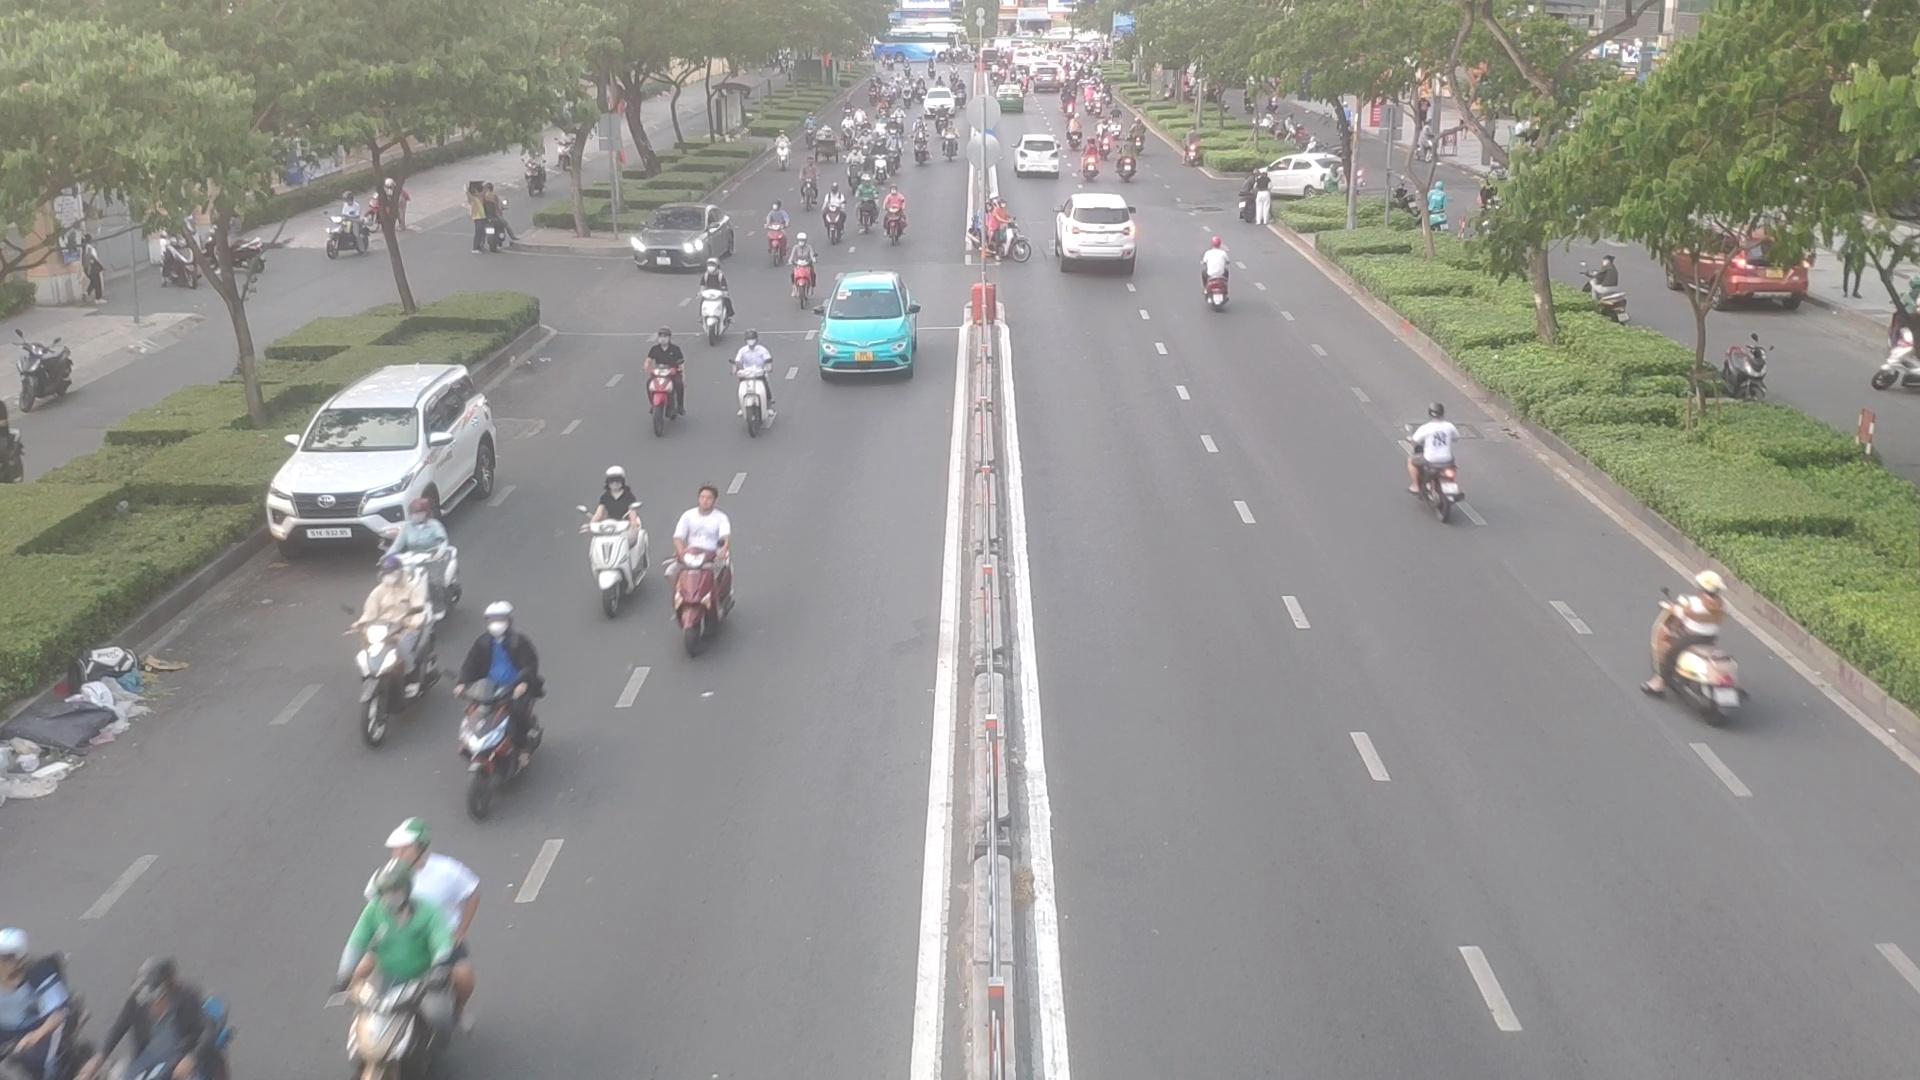car: (262, 363, 500, 554), (814, 276, 919, 380), (626, 204, 738, 272), (1054, 190, 1141, 274), (1014, 132, 1065, 174)
motorbike: (328, 858, 481, 1062), (454, 603, 541, 804), (1652, 566, 1742, 733), (675, 483, 741, 659), (361, 566, 425, 741), (1400, 394, 1476, 510), (382, 496, 462, 603), (588, 431, 637, 597), (731, 328, 781, 436), (641, 331, 687, 422), (978, 198, 1029, 272), (695, 253, 738, 336), (1199, 236, 1232, 305), (793, 229, 819, 303), (761, 193, 789, 261), (884, 182, 907, 243), (825, 179, 845, 243), (858, 174, 880, 229), (773, 115, 790, 179), (1116, 135, 1137, 181), (884, 131, 905, 173), (1083, 137, 1100, 183), (806, 156, 820, 208), (873, 142, 890, 181), (913, 127, 927, 167), (847, 148, 860, 191)
